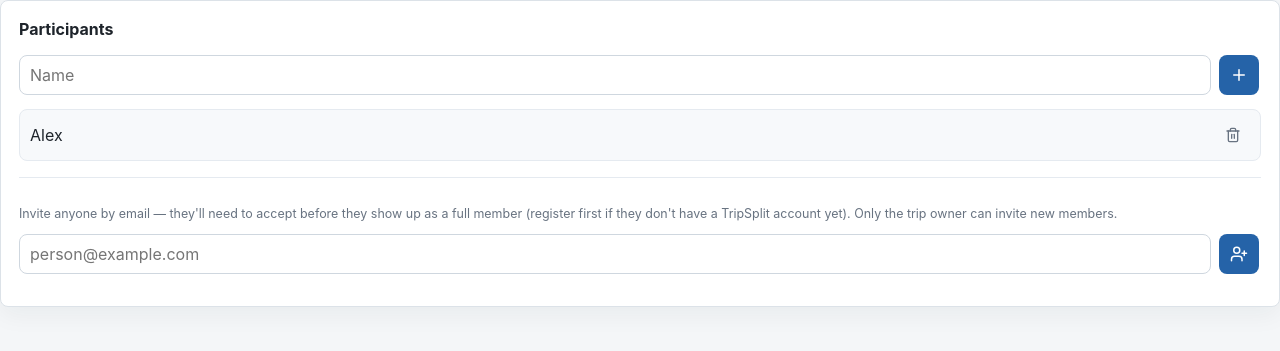
Test: ParticipantsPanel invite form › invites by email and shows a confirmation on success
In the field named "Invite by email": point(615, 254) [19,234,1211,274], type "maya@example.com"
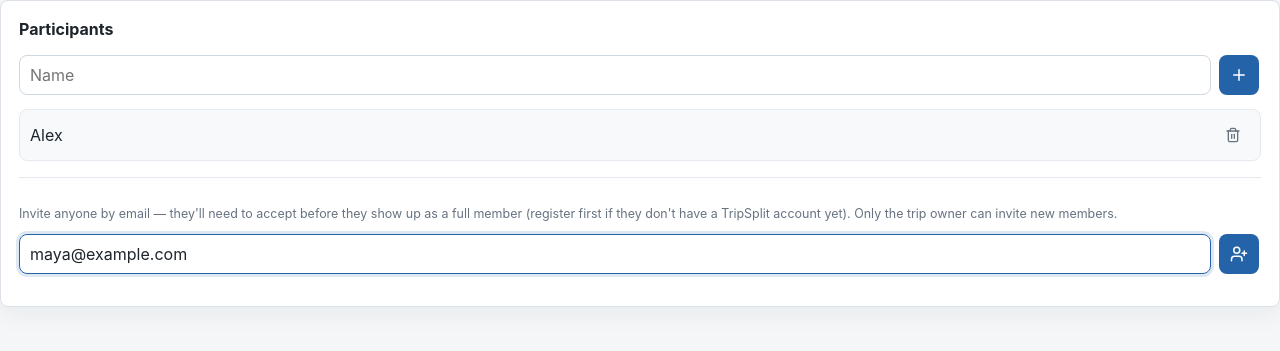
Click the button named "Send invite": point(1239, 254) [1219,234,1259,274]
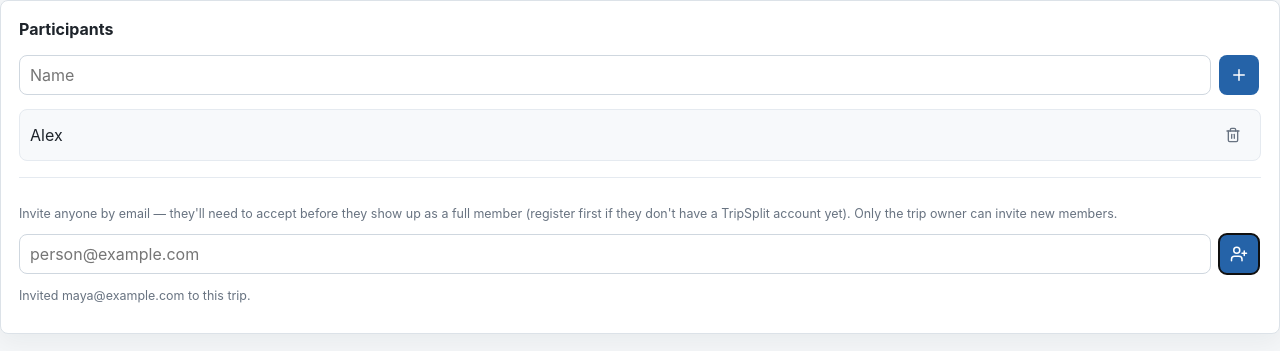
Now the text "Invited maya@example.com to this trip." is shown, box [19,288,251,303]
Now the field named "Invite by email" is empty, box [19,234,1211,274]
